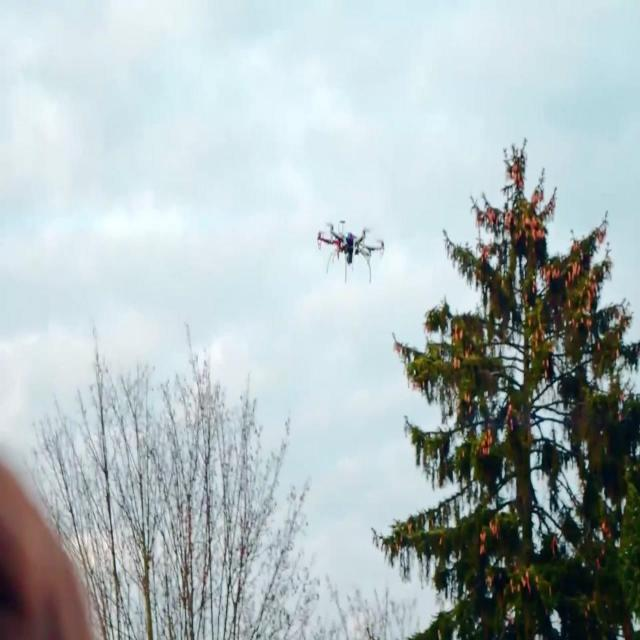UAV: (317, 220, 385, 284)
